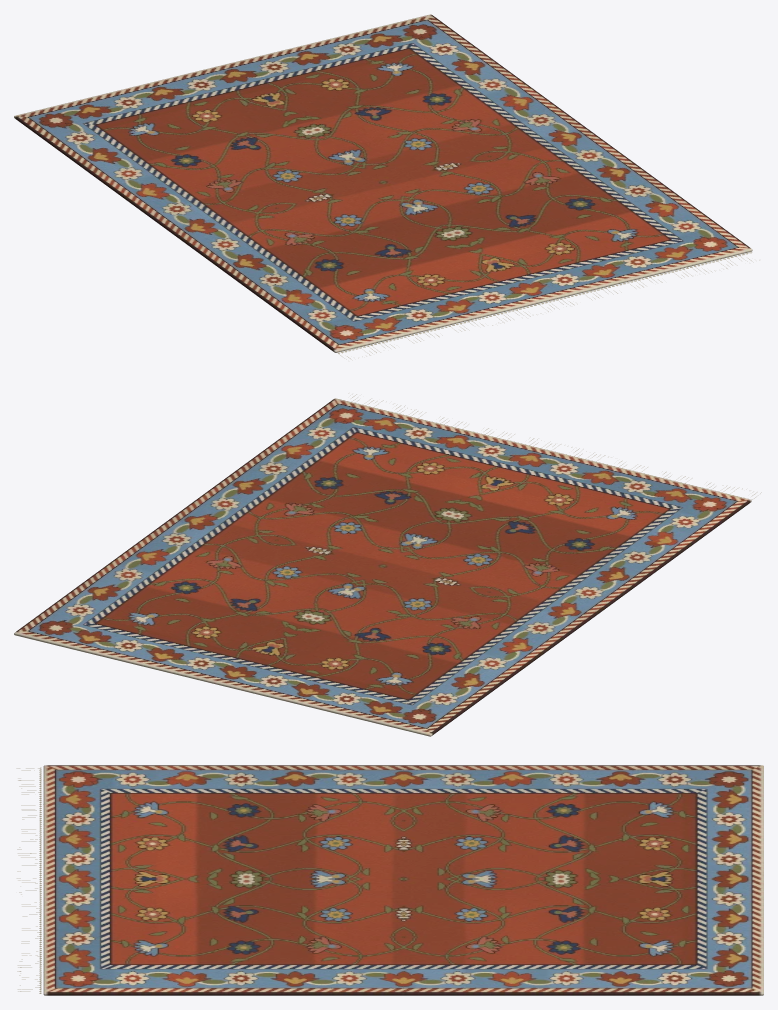
File: rug-mahal-wall.lite.67e31929.glb
3 views of the same model, one above another, from view 1: azimuth 30°, elevation 25°; view 2: azimuth 150°, elevation 25°; view 3: azimuth 270°, elevation 25° (orthographic). The views are drawn at different scales.
Parts seen in each view (by area): view 1: rug-mahal-wall, rug-mahal-wall-fringe; view 2: rug-mahal-wall; view 3: rug-mahal-wall, rug-mahal-wall-fringe.
Part boxes in pixels (x1,y1,x2,y2): rug-mahal-wall: [14, 14, 752, 352]; rug-mahal-wall-fringe: [338, 251, 759, 360]; rug-mahal-wall: [14, 398, 751, 736]; rug-mahal-wall: [43, 765, 763, 995]; rug-mahal-wall-fringe: [16, 767, 43, 993].
Size of the model in its own units: 1.5 by 0.009 by 2.08.
2 materials, 2 textured.
